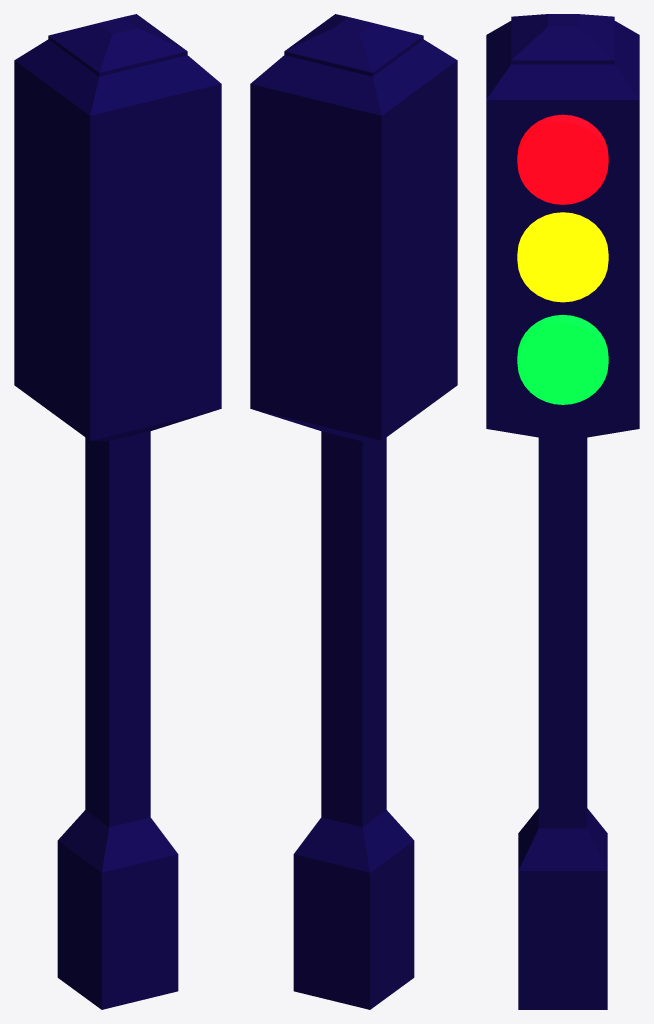
The model's file is signal_light.glb.
3 renders of one model, left to right at view 1: azimuth 30°, elevation 25°; view 2: azimuth 150°, elevation 25°; view 3: azimuth 270°, elevation 25°, orthographic.
Visible parts, largest first — view 1: Semaforo; view 2: Semaforo; view 3: Semaforo, yellow_light, red_light, green_light.
Part boxes in pixels (x1,y1,x2,y2): Semaforo: (14, 14, 221, 1009); Semaforo: (250, 14, 457, 1009); Semaforo: (486, 14, 639, 1009); yellow_light: (517, 212, 608, 302); red_light: (517, 114, 608, 204); green_light: (517, 315, 608, 404).
Bounding box in the file's own units: 3.84 × 23.98 × 3.44.
